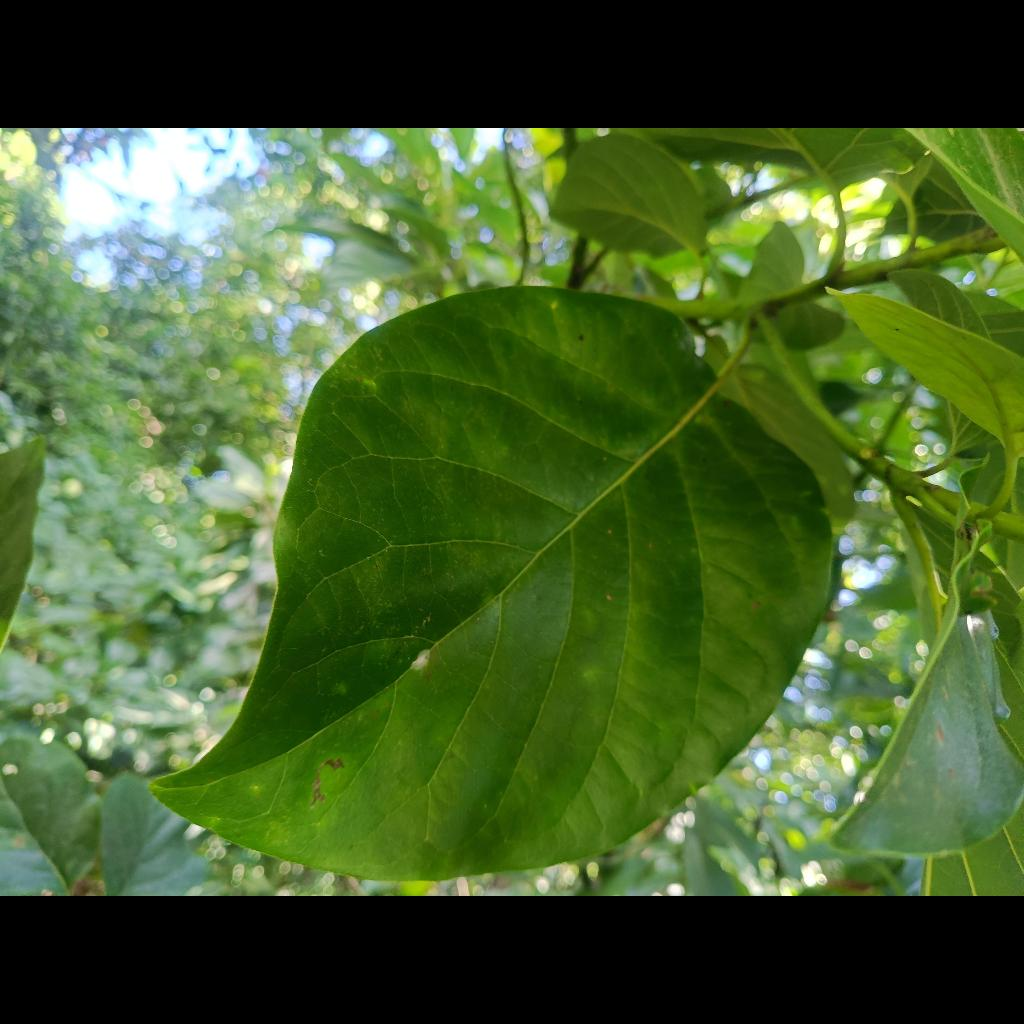Pest Infested: (154, 287, 831, 880)
